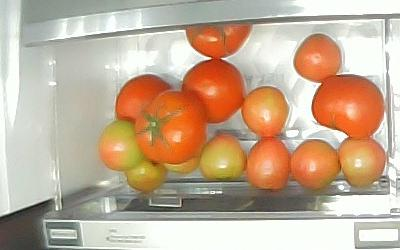tomato: (135, 89, 205, 164), (311, 74, 384, 139), (180, 59, 243, 123), (116, 74, 173, 126), (338, 136, 388, 188), (242, 86, 290, 137), (292, 139, 339, 190), (186, 23, 252, 59), (294, 33, 342, 82), (98, 120, 144, 171), (247, 138, 291, 191), (201, 132, 247, 181), (125, 158, 165, 193), (157, 145, 203, 174)
